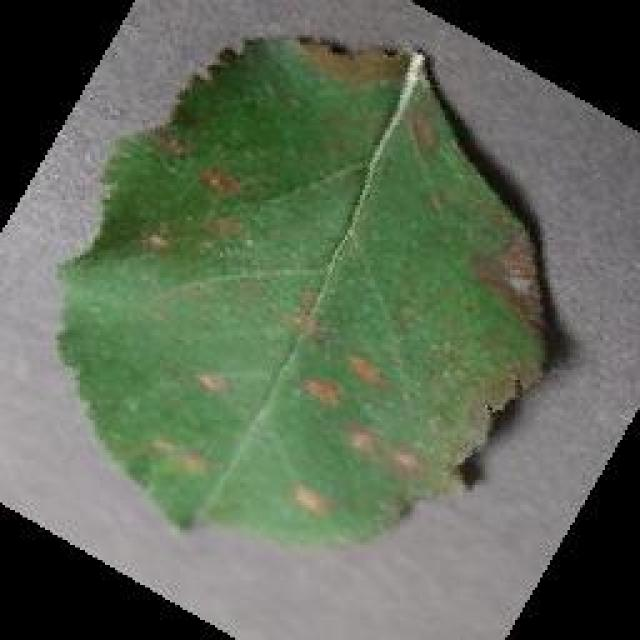apple cedar apple rust: (52, 32, 560, 550)
